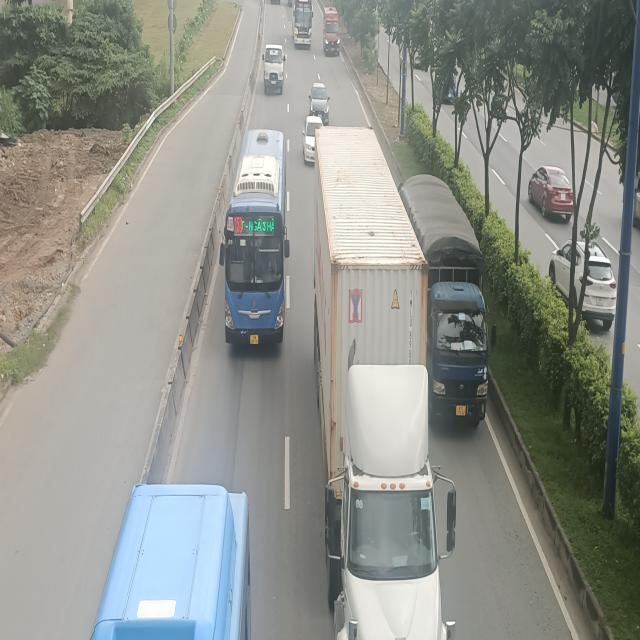car: (309, 82, 330, 121)
coach: (218, 128, 290, 348), (292, 0, 313, 48)
container: (312, 126, 457, 640)
truck: (398, 183, 497, 426), (261, 44, 286, 92)
van: (323, 6, 341, 54)
